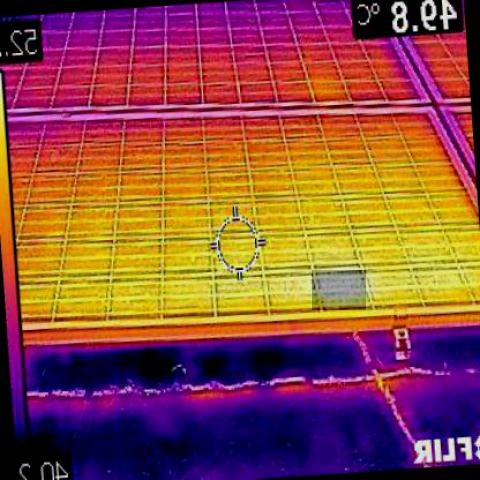fault: (312, 270, 366, 310)
